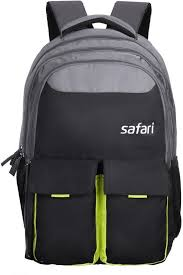backpack: (1, 0, 181, 265)
